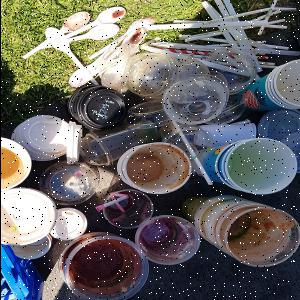Cup: (181, 197, 300, 269), (192, 139, 298, 196), (63, 237, 149, 300), (78, 120, 160, 168), (120, 144, 193, 196), (239, 59, 300, 116), (134, 217, 200, 267), (103, 190, 154, 230), (195, 117, 261, 145), (2, 138, 33, 193)
